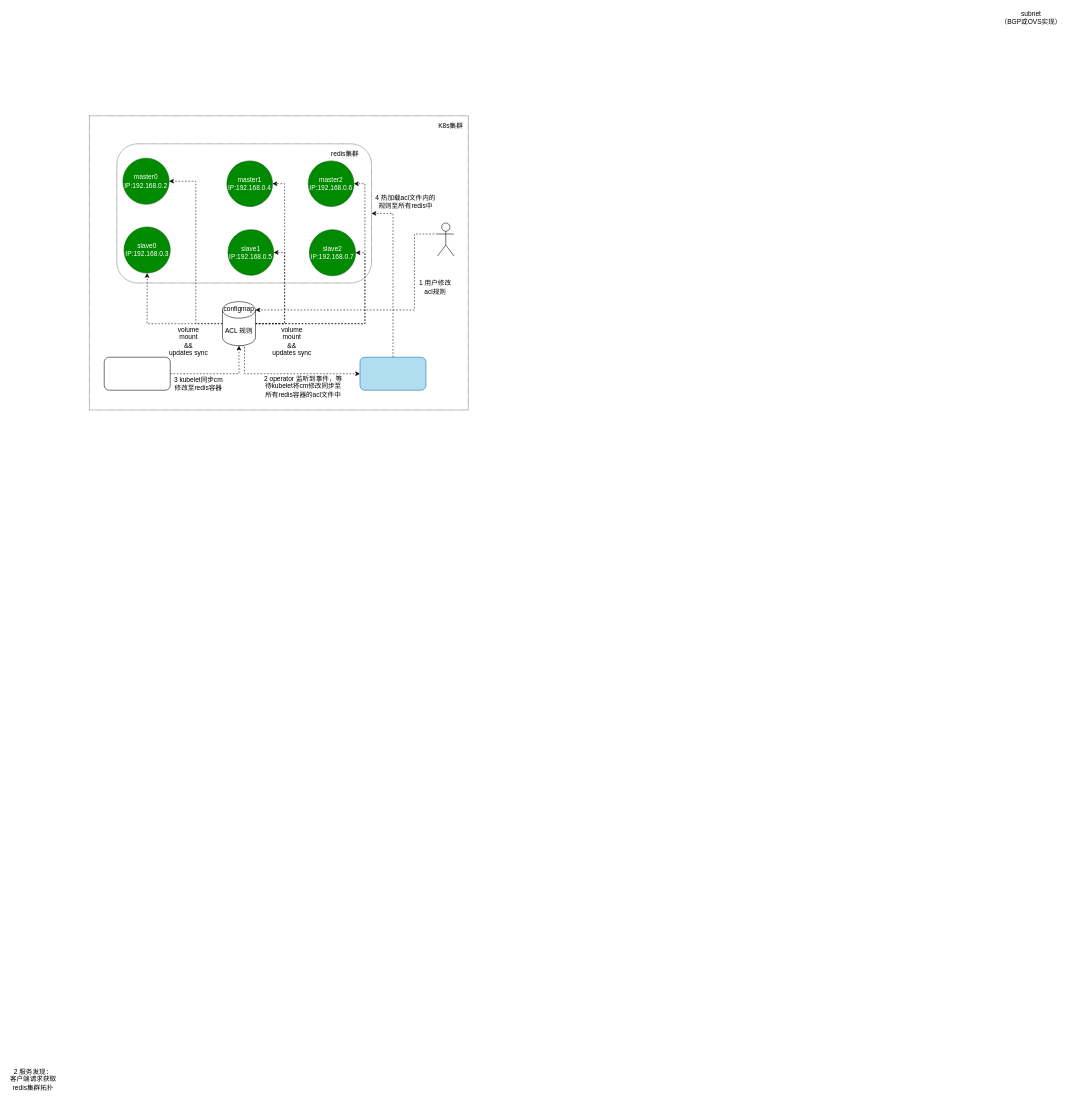
Image size: 1073x1101. Some labels were removed from this diagram. Here are the shapes that lost their labels. From the top down, the centre of each, then its label:
At point 445,239: "Actor".
At point 137,373: "kubelet".
At point 392,373: "redis-operator".
